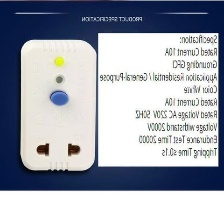three_eye_plug: (17, 37, 99, 173)
